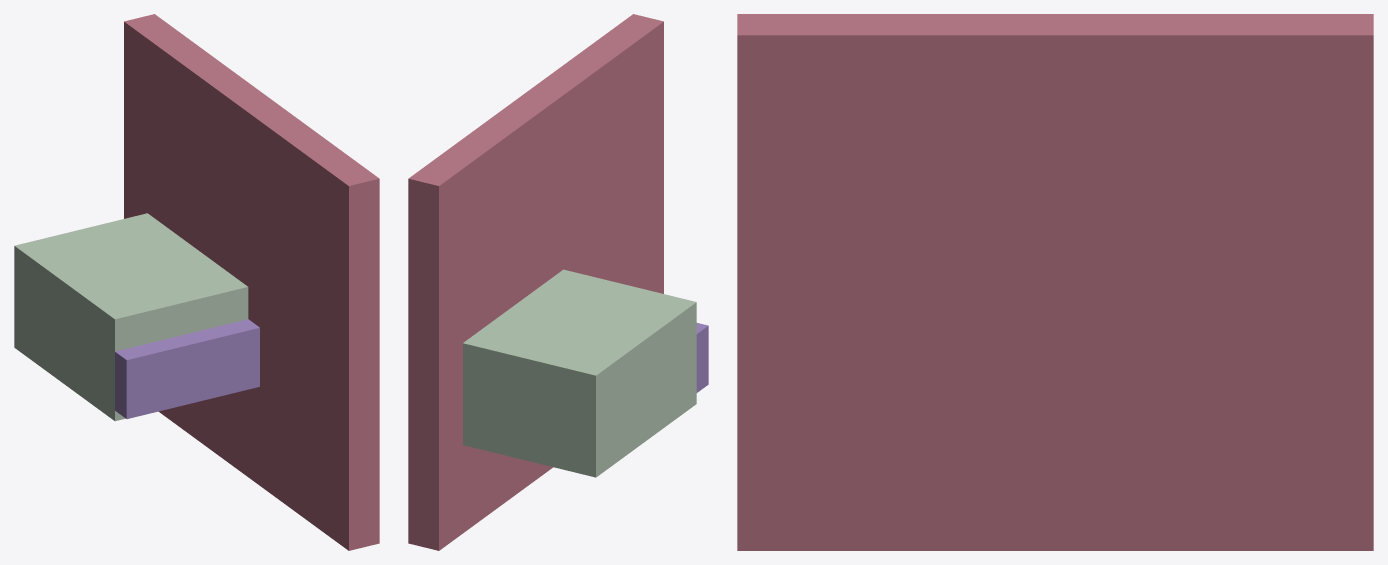
Rendered from 199509_pred.glb.
3 renders of one model, left to right at view 1: azimuth 30°, elevation 25°; view 2: azimuth 150°, elevation 25°; view 3: azimuth 270°, elevation 25°, orthographic. The views are drawn at different scales.
Parts seen in each view (by area): view 1: world; view 2: world; view 3: world.
Boxes of the visible parts, box(x1,y1,x2,y2) form: world: box(14, 14, 379, 550); world: box(408, 14, 708, 550); world: box(737, 14, 1373, 550).
Size of the model in its own units: 3.2 by 6.8 by 7.6.
